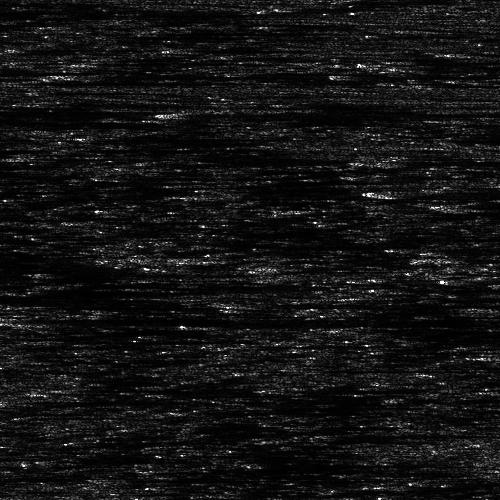rock: (139, 280, 284, 321), (378, 249, 500, 270), (0, 311, 105, 328), (51, 69, 124, 80), (409, 276, 500, 283), (0, 76, 53, 87), (348, 157, 411, 166), (256, 384, 319, 393), (446, 198, 477, 211), (359, 187, 412, 194), (0, 397, 48, 404), (153, 111, 206, 114)
shadow: (212, 280, 444, 321), (0, 311, 432, 328), (0, 1, 279, 18), (88, 69, 469, 80), (17, 76, 282, 87), (7, 397, 172, 404), (446, 249, 500, 270), (380, 157, 500, 166), (288, 384, 408, 393), (0, 106, 116, 115), (386, 187, 500, 194), (462, 198, 500, 211), (456, 276, 500, 283), (180, 111, 235, 114)
